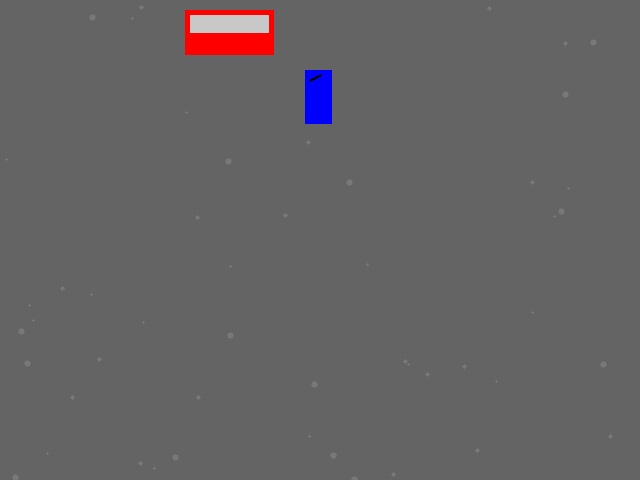car: (185, 10, 273, 54)
motorcycle: (305, 70, 331, 123)
